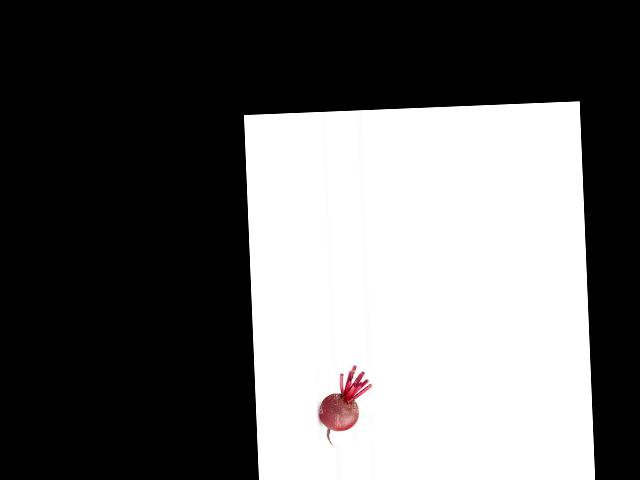beet: (317, 364, 374, 446)
